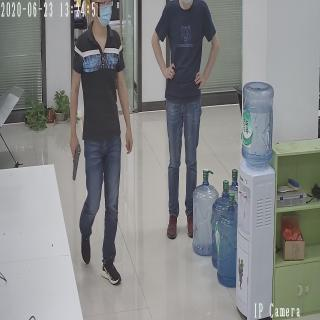gun: (68, 134, 81, 181)
